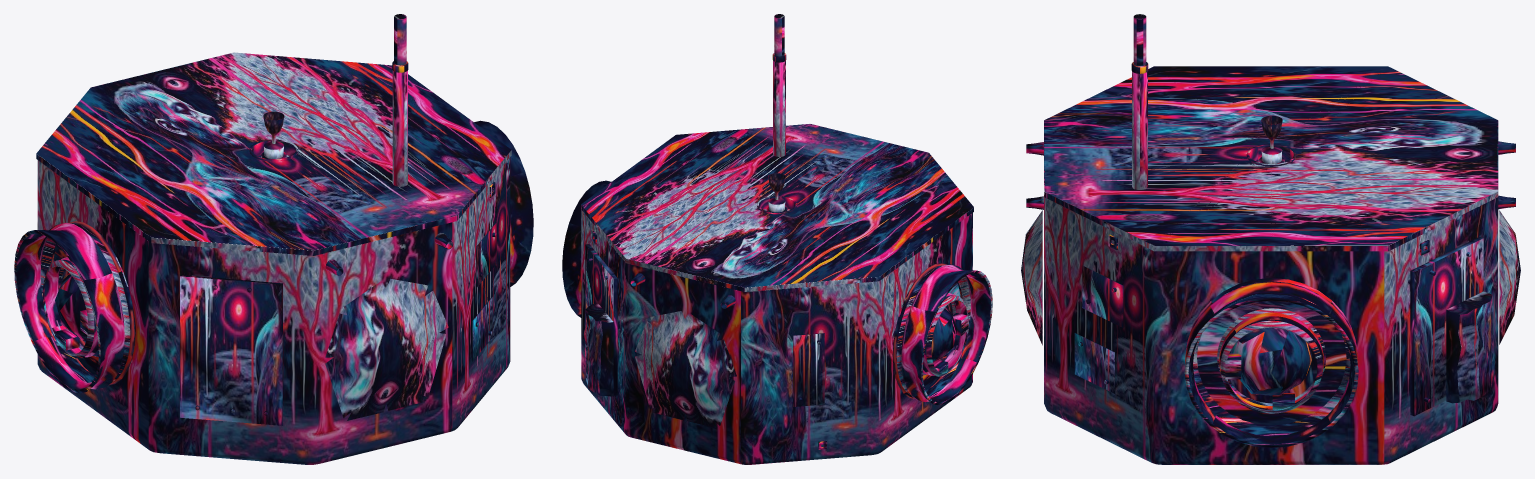
The model's file is eclipse-2017.glb.
3 views of the same model, side by side, from view 1: azimuth 30°, elevation 25°; view 2: azimuth 150°, elevation 25°; view 3: azimuth 270°, elevation 25° (orthographic). The views are drawn at different scales.
Parts seen in each view (by area): view 1: A; view 2: A; view 3: A.
Part boxes in pixels (x1,y1,x2,y2): A: (14,14,533,464); A: (562,14,992,464); A: (1021,14,1520,464).
Bounding box in the file's own units: 2 × 1.66 × 1.9.
5 materials, 5 textured.
